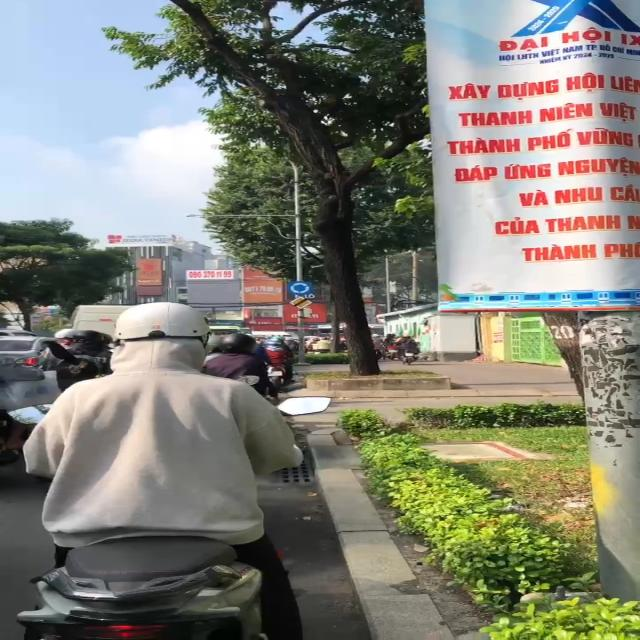Bien bao noi giao nhau chay theo vong xuyen: (286, 279, 314, 296)
